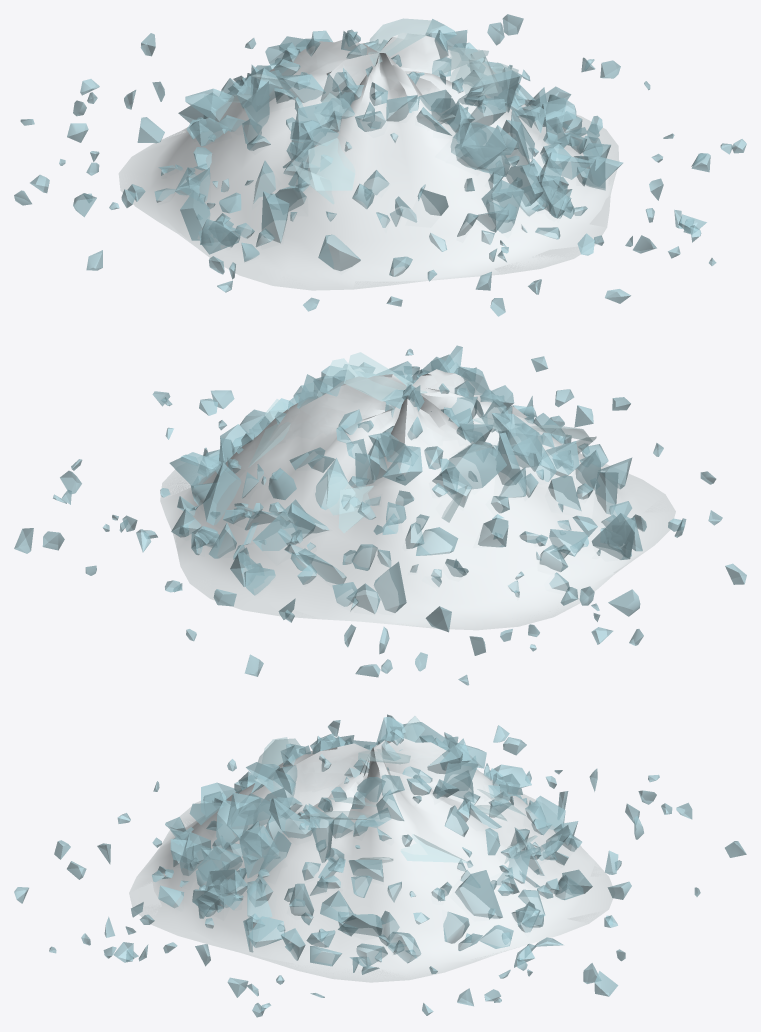
Rendered from SM_GlassPowder.fbx.
3 renders of one model, top to bottom at view 1: azimuth 30°, elevation 25°; view 2: azimuth 150°, elevation 25°; view 3: azimuth 270°, elevation 25°, orthographic. The views are drawn at different scales.
Visible parts, largest first — view 1: SM_GlassPowder; view 2: SM_GlassPowder; view 3: SM_GlassPowder.
Part boxes in pixels (left/top/right/bottom): SM_GlassPowder: left=14, top=14, right=746, bottom=316; SM_GlassPowder: left=14, top=345, right=746, bottom=685; SM_GlassPowder: left=14, top=714, right=746, bottom=1017.
Size of the model in its own units: 0.4061 by 0.0939 by 0.4354.
